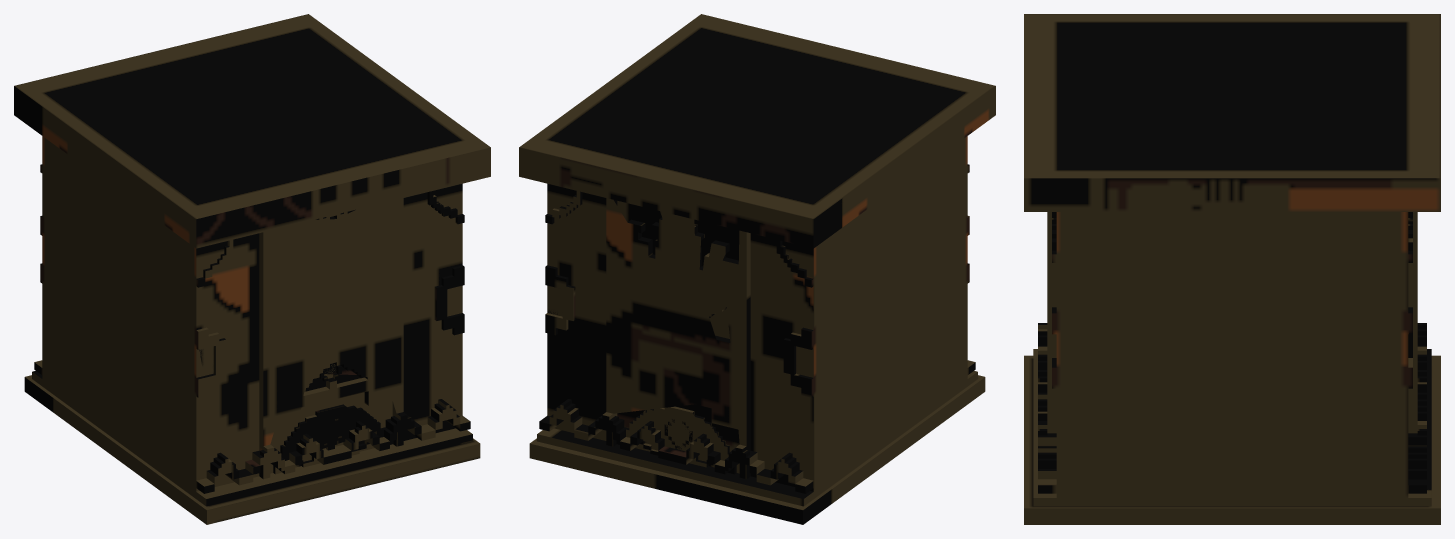
Rendered from 2sided.fbx.
3 renders of one model, left to right at view 1: azimuth 30°, elevation 25°; view 2: azimuth 150°, elevation 25°; view 3: azimuth 270°, elevation 25°, orthographic. The views are drawn at different scales.
Visible parts, largest first — view 1: FBX; view 2: FBX; view 3: FBX.
Part boxes in pixels (x1,y1,x2,y2): FBX: (14, 14, 490, 524); FBX: (519, 14, 995, 524); FBX: (1024, 14, 1440, 524).
Size of the model in its own units: 42 by 42 by 45.
1 material, 1 textured.
